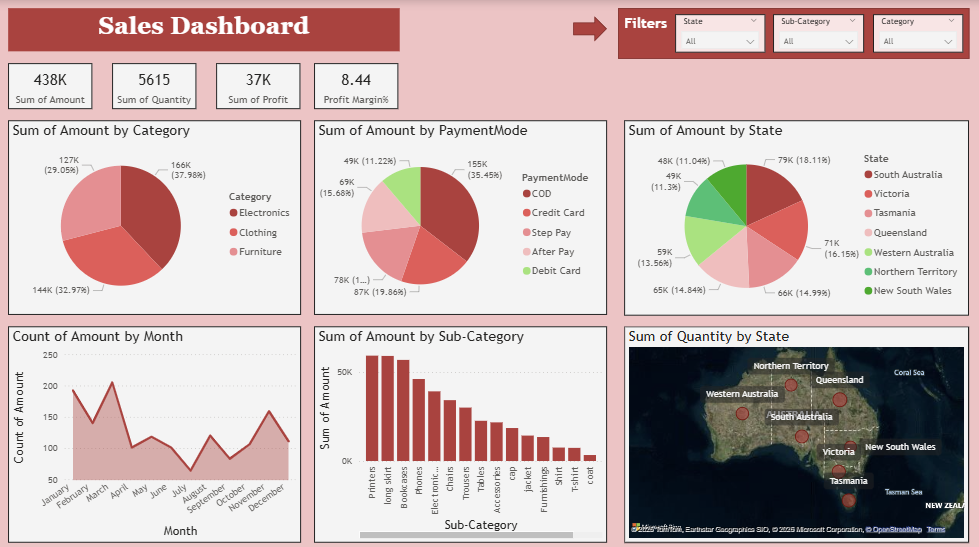

This screenshot's page, from the dashboard's own definition file:
{"tool":"powerbi","page":{"name":"Sales Overview","canvas":[1280,720],"ordinal":0},"visuals":[{"type":"shape","box":[806.2,10,458.8,66.2],"z":0},{"type":"slicer","fields":{"Values":["Details.Category"]},"box":[1138.8,17.5,117.5,50],"z":1000},{"type":"slicer","fields":{"Values":["Details.Sub-Category"]},"box":[1008.8,17.5,118.8,50],"z":2000},{"type":"slicer","fields":{"Values":["Orders_Australia.State"]},"box":[882.5,17.5,117.5,50],"z":3000},{"type":"pieChart","fields":{"Category":["Details.Category"],"Y":["Sum(Details.Amount)"]},"box":[10,157.5,382.5,253.8],"z":4000},{"type":"pieChart","fields":{"Category":["Orders_Australia.State"],"Y":["Sum(Details.Amount)"]},"box":[815,156.2,450,255],"z":5000},{"type":"pieChart","fields":{"Category":["Details.PaymentMode"],"Y":["Sum(Details.Amount)"]},"box":[411.2,157.5,382.5,253.8],"z":6000},{"type":"areaChart","fields":{"Category":["Orders_Australia.Order Date.Variation.Date Hierarchy.Month","Orders_Australia.Order Date.Variation.Date Hierarchy.Day"],"Y":["CountNonNull(Details.Amount)"]},"box":[10,426.2,382.5,282.5],"z":7000},{"type":"map","fields":{"Category":["Orders_Australia.State"],"Size":["Sum(Details.Quantity)"]},"box":[815,426.2,450,282.5],"z":8000},{"type":"card","fields":{"Values":["Sum(Details.Amount)"]},"box":[10,82.5,110,60],"z":9000},{"type":"card","fields":{"Values":["Sum(Details.Profit)"]},"box":[282.5,82.5,110,60],"z":10000},{"type":"card","fields":{"Values":["Sum(Details.Quantity)"]},"box":[146.2,82.5,110,60],"z":11000},{"type":"card","fields":{"Values":["Details.Profit Margin%"]},"box":[411.2,82.5,110,60],"z":12000},{"type":"columnChart","fields":{"Category":["Details.Sub-Category"],"Y":["Sum(Details.Amount)"]},"box":[411.2,426.2,382.5,282.5],"z":13000},{"type":"textbox","box":[10,10,511.2,56.2],"z":14000},{"type":"textbox","box":[815,17.5,63.8,48.8],"z":15000},{"type":"shape","box":[748.9,21.5,44.1,32.8],"z":16000}]}

Visuals, with their boxes in screenshot pixels (x1, y1, x2, y2), scaled from the page's 1280x720 canvas onto the 979x547 screenshot:
shape: locate(617, 8, 968, 58)
slicer - Details.Category: locate(871, 13, 961, 51)
slicer - Details.Sub-Category: locate(772, 13, 862, 51)
slicer - Orders_Australia.State: locate(675, 13, 765, 51)
pieChart - Details.Category x Sum(Details.Amount): locate(8, 120, 300, 312)
pieChart - Orders_Australia.State x Sum(Details.Amount): locate(623, 119, 968, 312)
pieChart - Details.PaymentMode x Sum(Details.Amount): locate(315, 120, 607, 312)
areaChart - Orders_Australia.Order Date.Variation.Date Hierarchy.Month x Orders_Australia.Order Date.Variation.Date Hierarchy.Day: locate(8, 324, 300, 538)
map - Orders_Australia.State x Sum(Details.Quantity): locate(623, 324, 968, 538)
card - Sum(Details.Amount): locate(8, 63, 92, 108)
card - Sum(Details.Profit): locate(216, 63, 300, 108)
card - Sum(Details.Quantity): locate(112, 63, 196, 108)
card - Details.Profit Margin%: locate(315, 63, 399, 108)
columnChart - Details.Sub-Category x Sum(Details.Amount): locate(315, 324, 607, 538)
textbox: locate(8, 8, 399, 50)
textbox: locate(623, 13, 672, 50)
shape: locate(573, 16, 607, 41)
